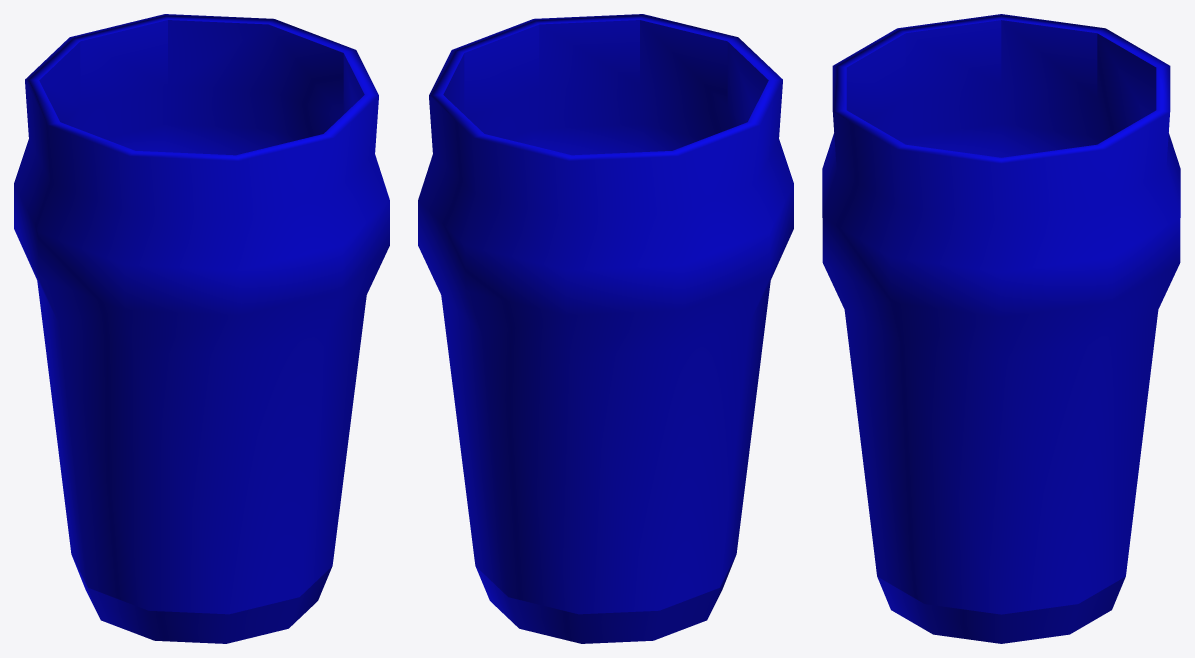
File: Glass_Pint.fbx
The picture shows the model from 3 angles, left to right: view 1: azimuth 30°, elevation 25°; view 2: azimuth 150°, elevation 25°; view 3: azimuth 270°, elevation 25°; orthographic projection.
Parts seen in each view (by area): view 1: Glass_Pint; view 2: Glass_Pint; view 3: Glass_Pint.
Boxes of the visible parts, <box> form: Glass_Pint: <box>14,14,389,643</box>; Glass_Pint: <box>418,14,793,643</box>; Glass_Pint: <box>822,14,1180,643</box>.
Bounding box in the file's own units: 43.28 × 64.18 × 41.16.
